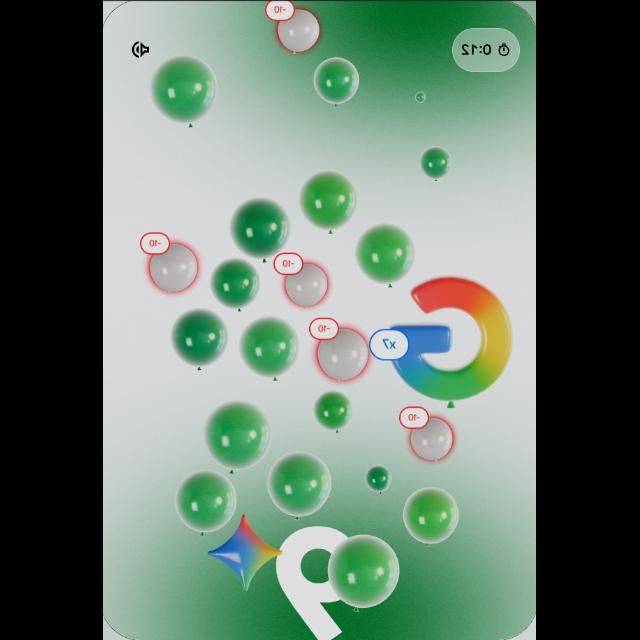gemini: (207, 510, 286, 594)
hazard: (137, 231, 205, 299), (307, 315, 371, 385), (400, 404, 460, 466), (274, 250, 330, 310), (268, 0, 320, 54)
safe: (148, 54, 220, 132), (330, 533, 402, 609), (205, 400, 273, 470), (268, 452, 334, 518), (176, 469, 238, 535), (240, 316, 302, 379), (357, 222, 417, 286), (232, 197, 292, 259), (300, 169, 360, 231), (404, 487, 462, 548), (172, 307, 230, 368), (311, 56, 364, 110), (210, 257, 262, 309), (313, 389, 353, 437), (420, 146, 454, 182), (366, 464, 392, 494), (414, 90, 428, 104)
super_g: (368, 272, 520, 412)
